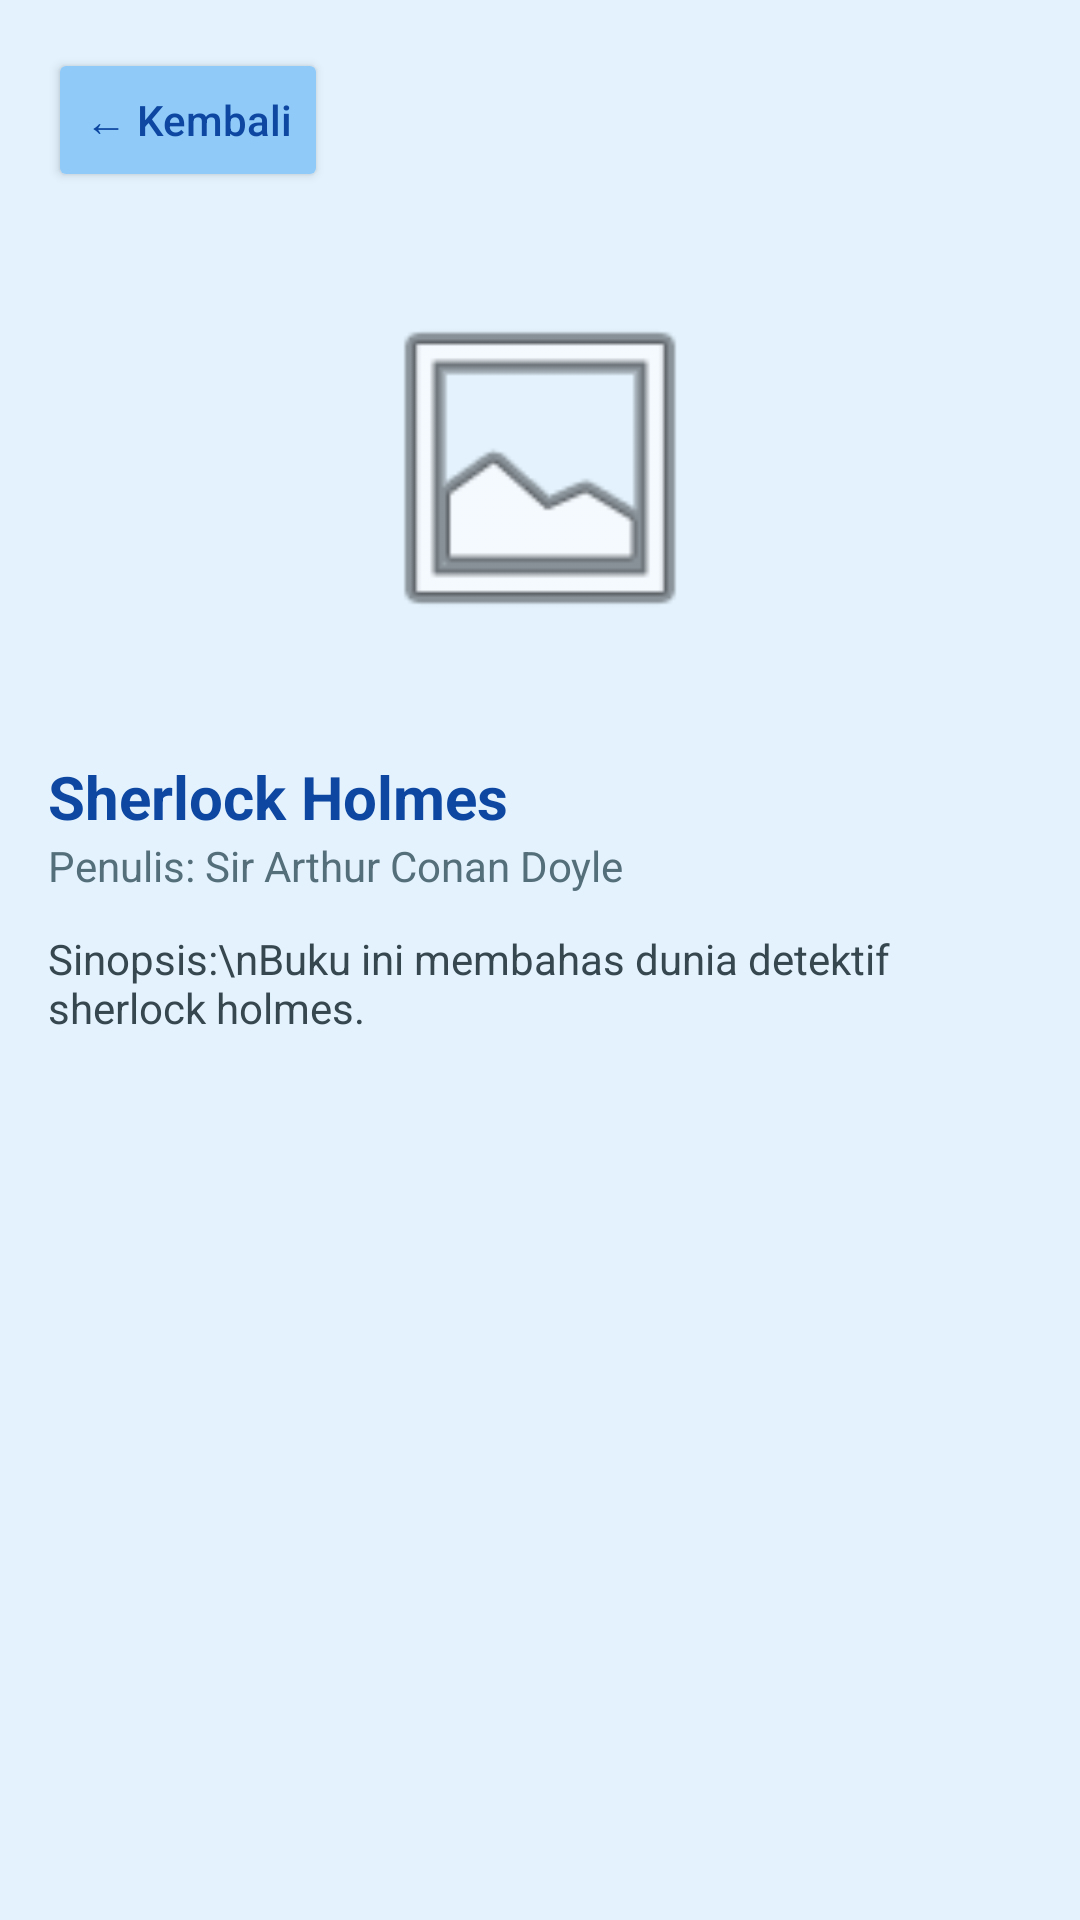

Locate icon controls on the screen. Image size 1080 × 1920, boxes as (x1=x1, y1=y1, x2=x2, y2=y2).
gallery: (x1=403, y1=331, x2=677, y2=605)
